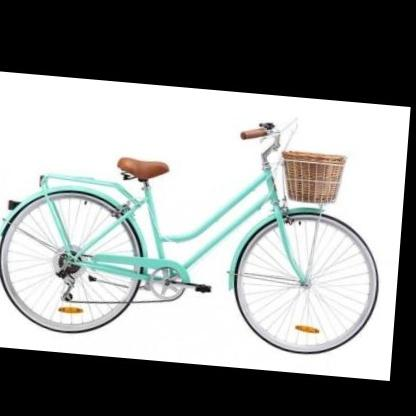Bicycle: (1, 97, 392, 356)
